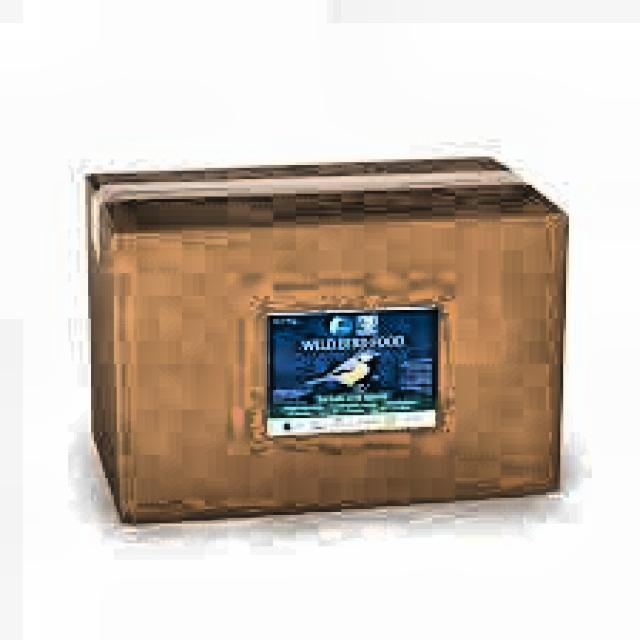cardboard: (82, 154, 569, 524)
